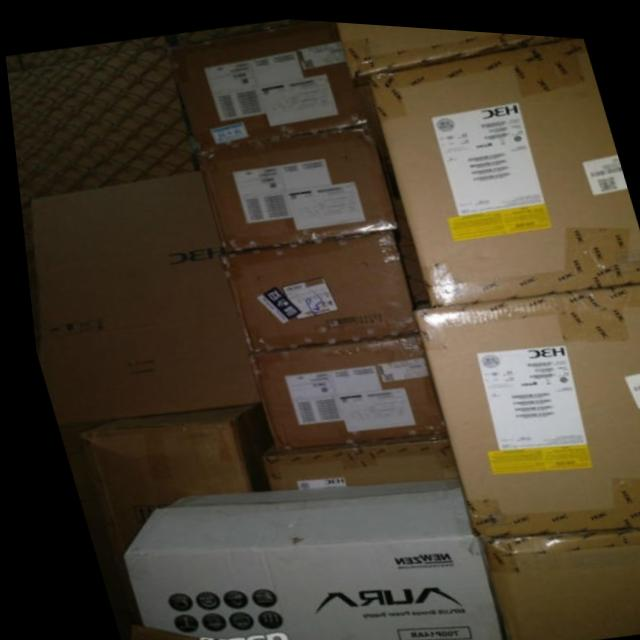box: (368, 30, 640, 301), (111, 473, 490, 640), (405, 276, 640, 534), (26, 168, 251, 424), (75, 402, 261, 555), (167, 17, 382, 149), (195, 122, 411, 248), (216, 227, 428, 350), (238, 330, 440, 447), (468, 520, 640, 640), (336, 18, 573, 75), (253, 428, 449, 487)
